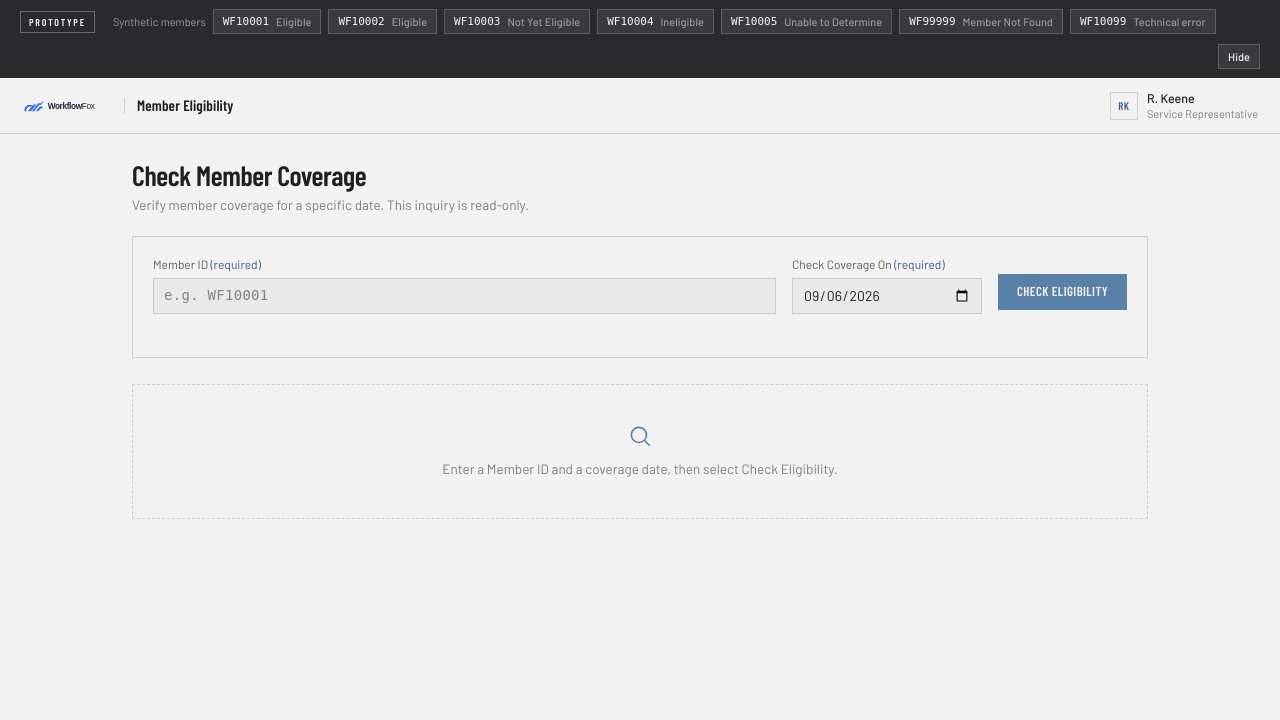
Scenario: Member Eligibility app › renders a friendly technical-error state with a retry action
This screenshot has width=1280, height=720.
In the field labelled "Member ID (required)": (464, 296) [153,278,776,314], type "WF10099"
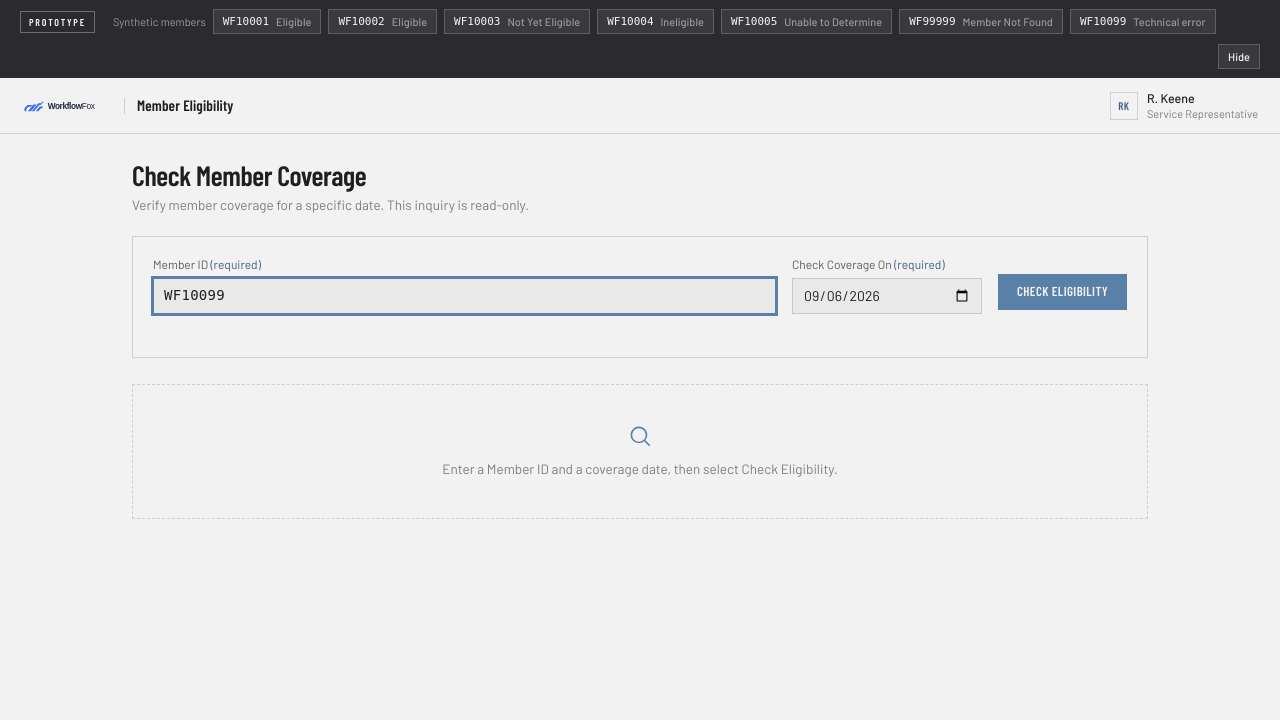
In the date field labelled "Check Coverage On (required)": (887, 296) [792,278,982,314], type "2026-09-03"
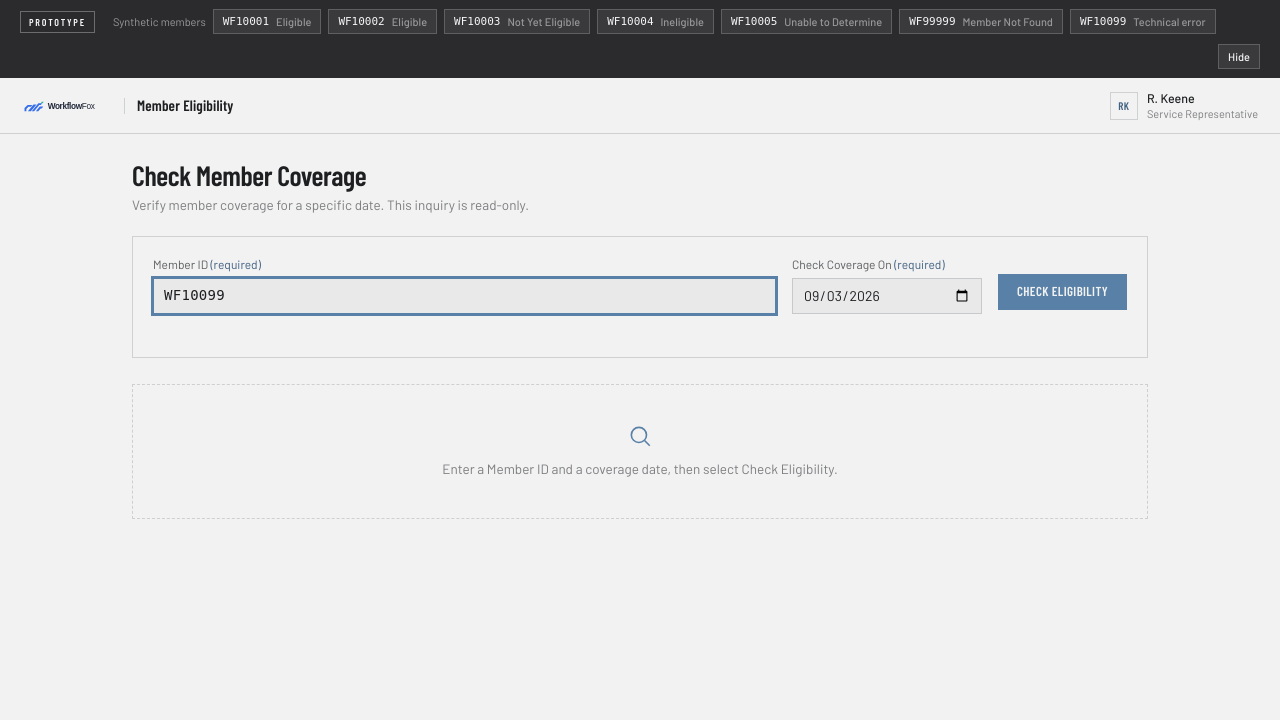
Click the button "Check Eligibility": (1062, 292) [998,274,1127,310]
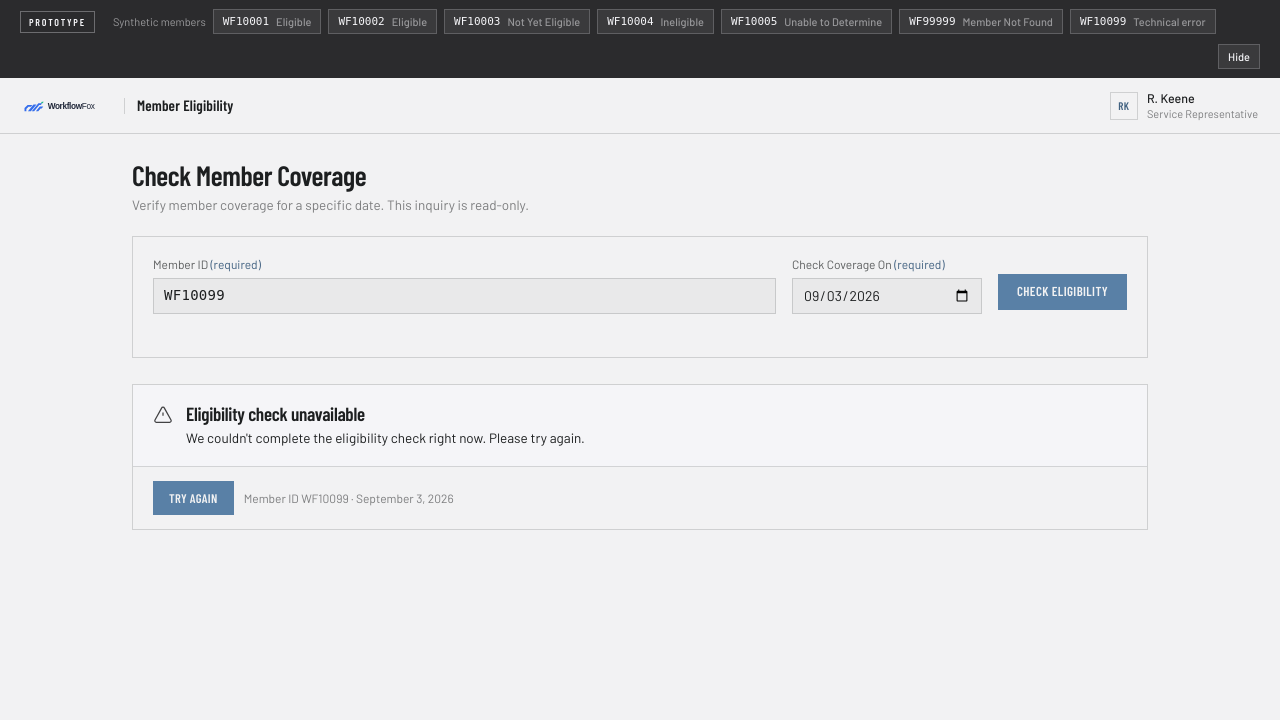
Check: the text "We couldn't complete the eligibility check right now. Please try again." is shown, box [186,428,585,448]
Check: the button "Try again" is shown, box [153,481,234,515]
